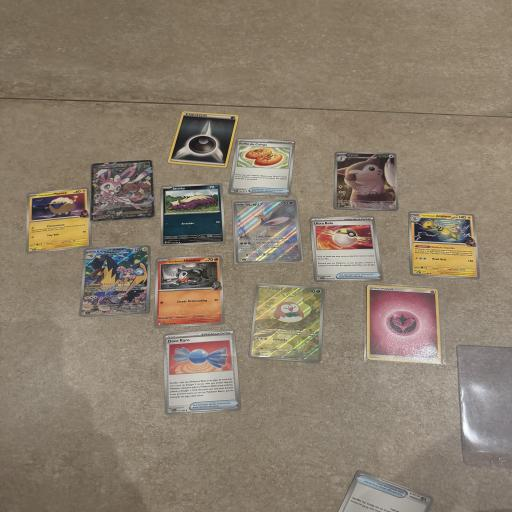card: (159, 329, 242, 416), (248, 282, 327, 363), (367, 284, 442, 365), (76, 245, 154, 317), (151, 255, 226, 328), (409, 210, 480, 281), (20, 187, 95, 254), (310, 216, 384, 282), (233, 199, 302, 265), (86, 159, 156, 223), (167, 109, 240, 169), (159, 184, 226, 246), (333, 151, 401, 212), (228, 137, 295, 197)
